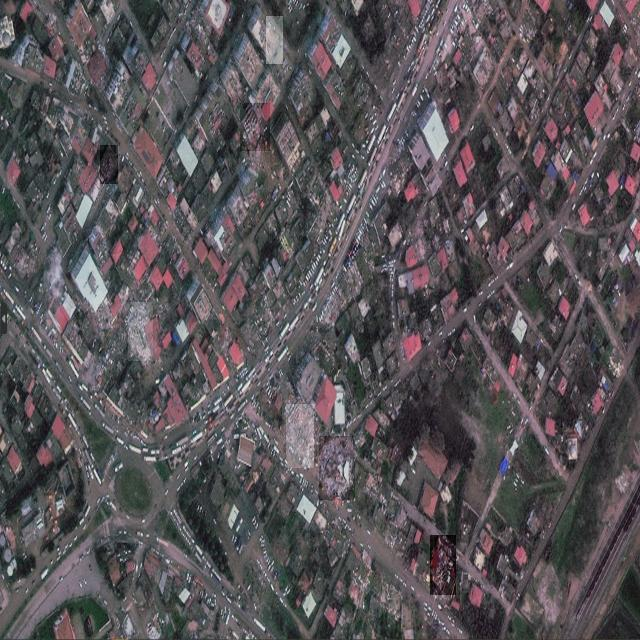Rubble: (319, 436, 355, 499), (286, 404, 314, 468), (430, 536, 456, 596), (128, 302, 153, 361), (240, 104, 270, 152), (86, 348, 109, 386), (266, 16, 283, 64), (100, 145, 118, 184)
